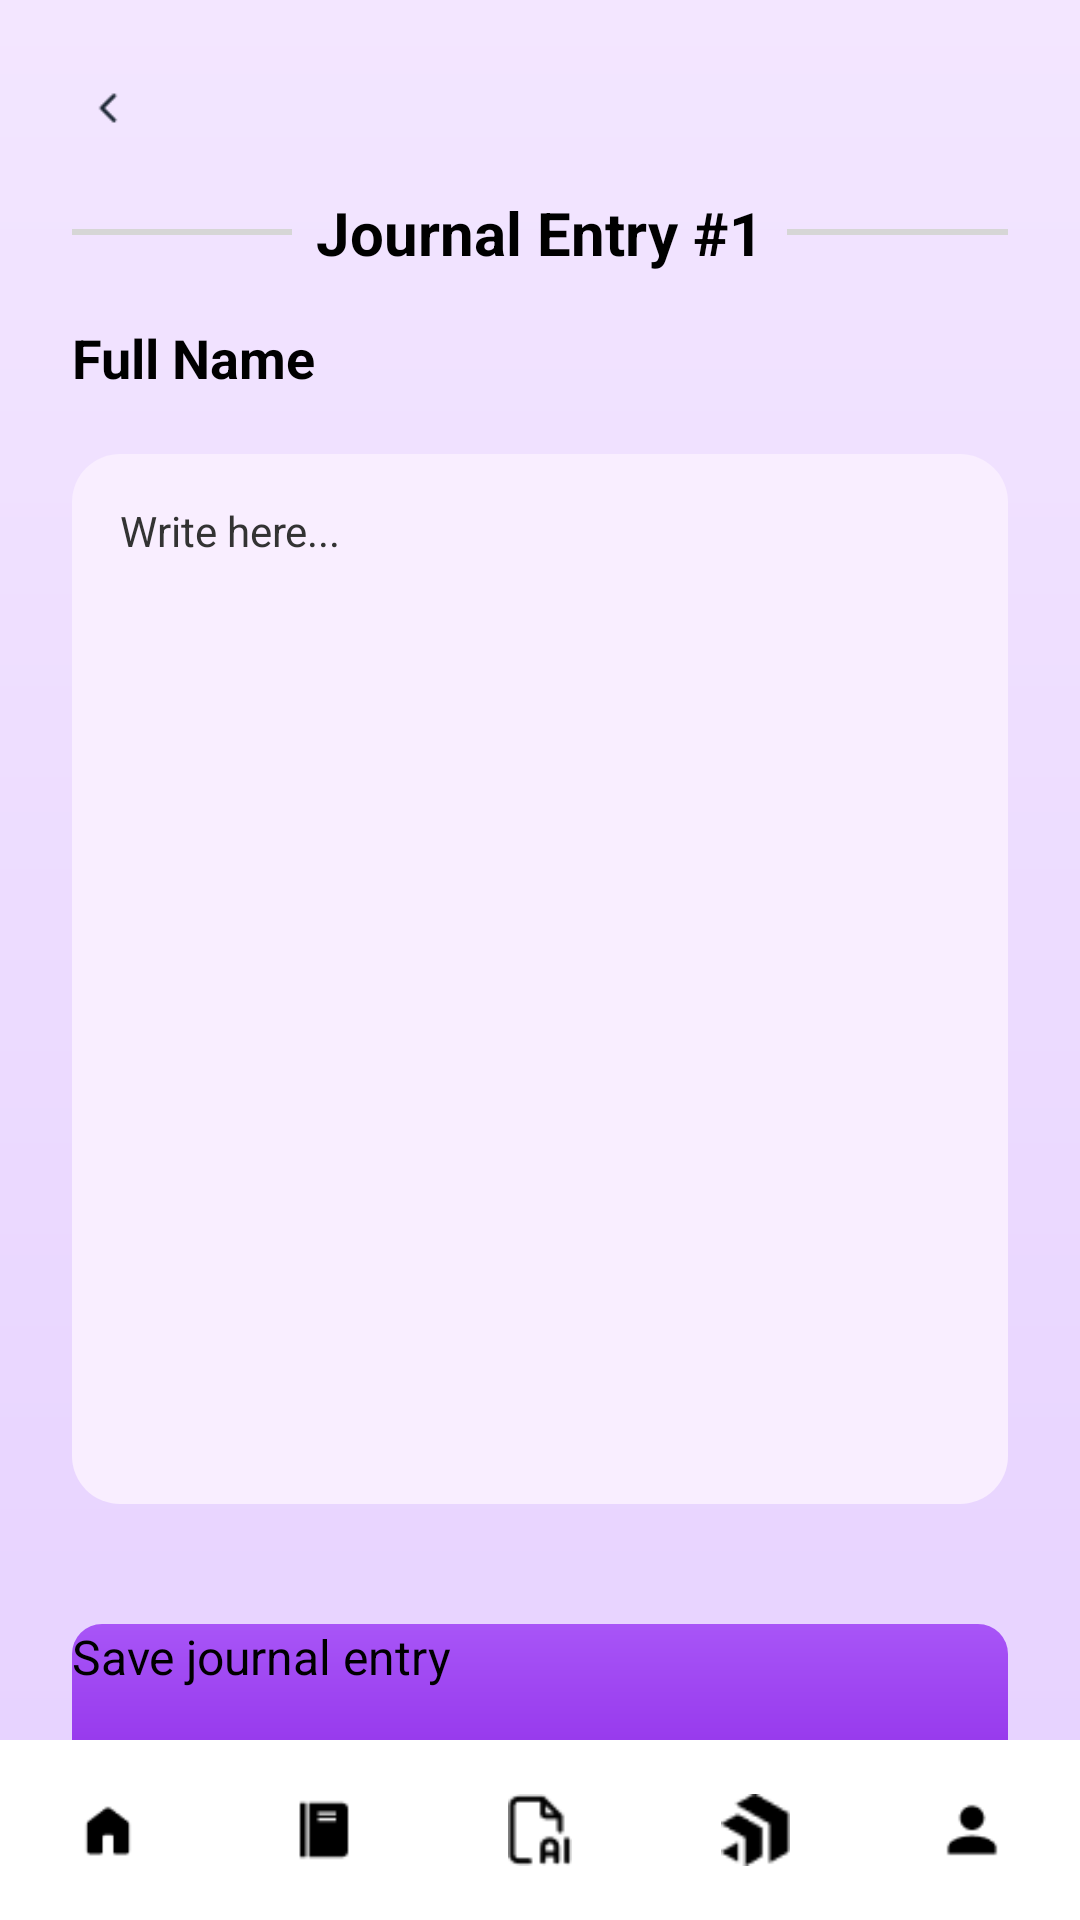

Named icons in this screenshot (1080 x 1920) and their bounding boxes, bbox=[x1, y1, x2, y2]:
arrow: bbox=[99, 93, 117, 123]
Home: bbox=[86, 1806, 130, 1856]
Profile: bbox=[946, 1804, 998, 1856]
